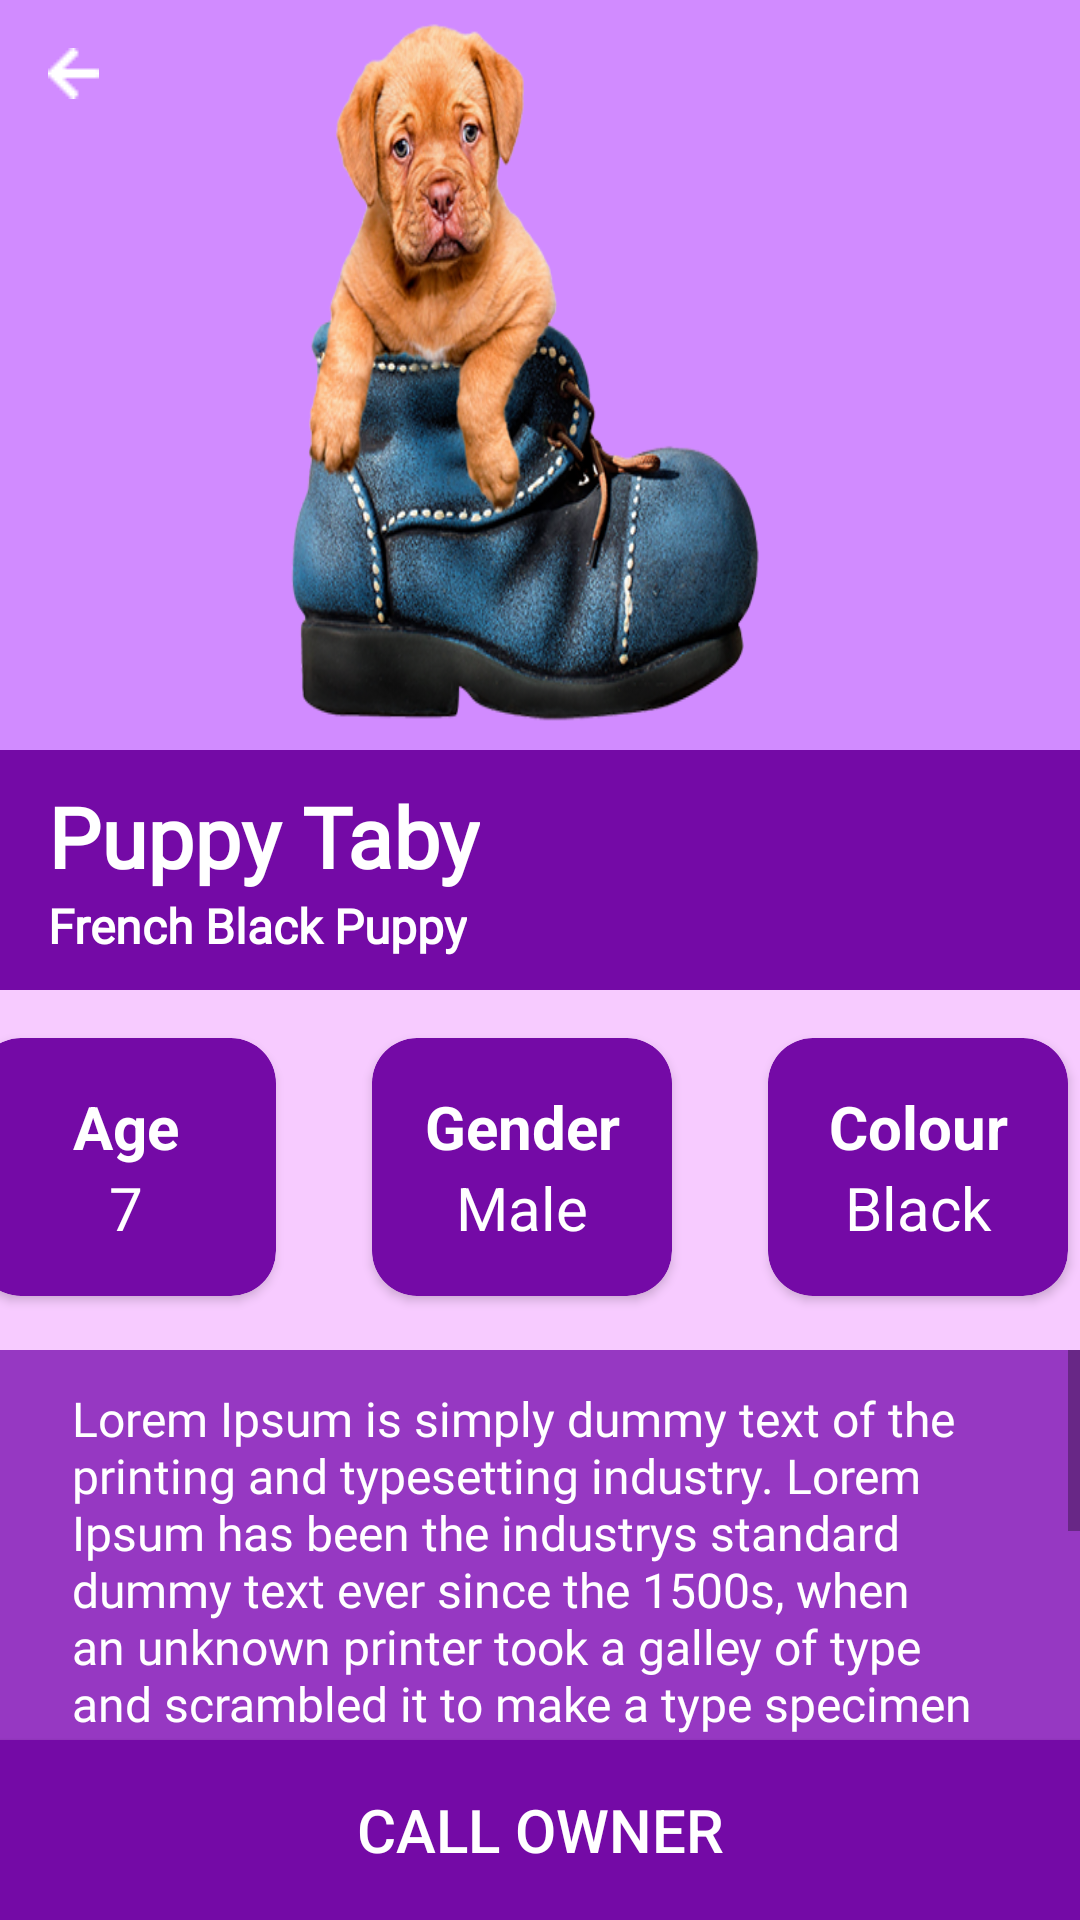

Screen size 1080px x 1920px. Icon name, then its center in pixels as (x=x, y=y):
Back Button: (x=73, y=73)
